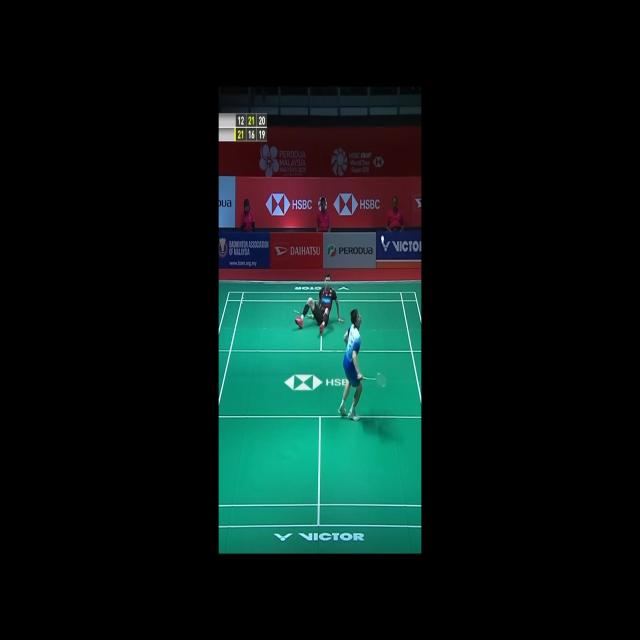shuttle-P15u: (382, 237, 385, 245)
